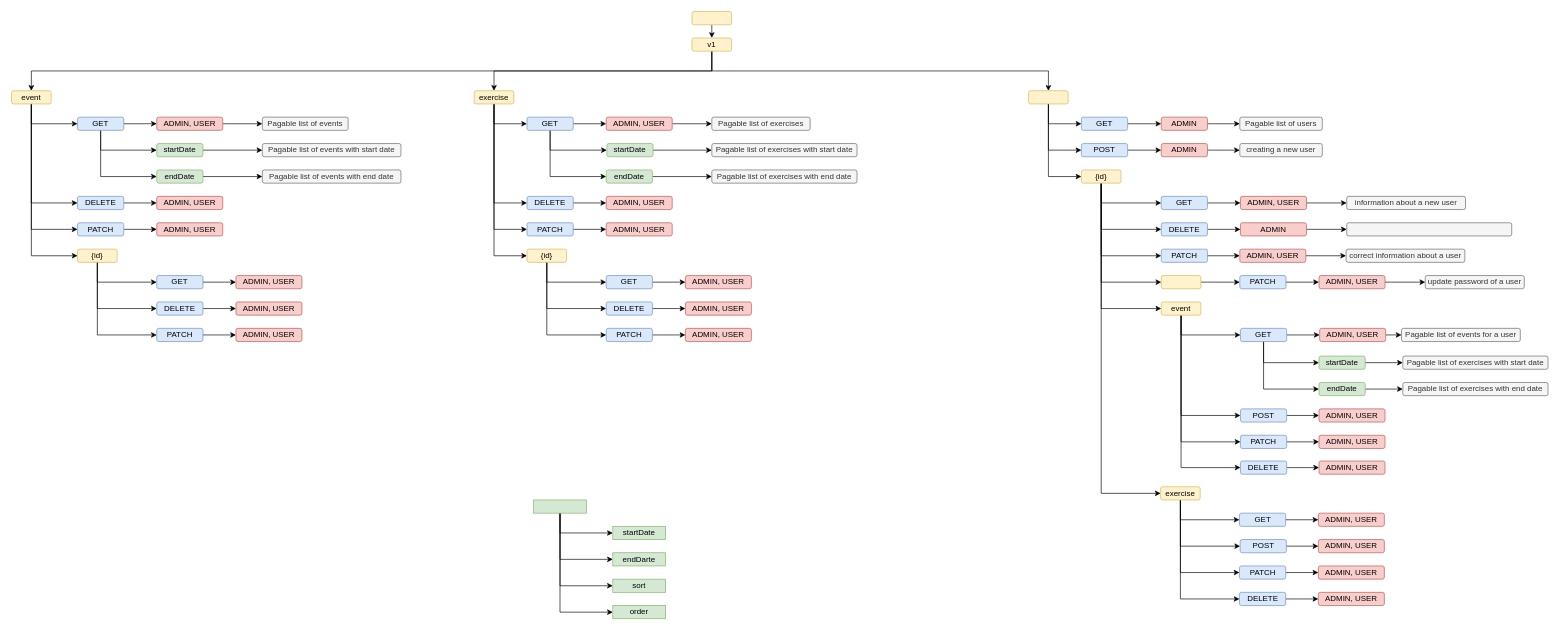
Image size: 1560x630. Some labels were removed from this diagram. The centre of each missing label's shape, as x and y in pixels:
"api" goes at point 711,18.
"Pagable" goes at point 559,506.
"password" goes at point 1181,282.
"remove a new user. Mark a user a not active" goes at point 1429,229.
"user" goes at point 1048,97.
